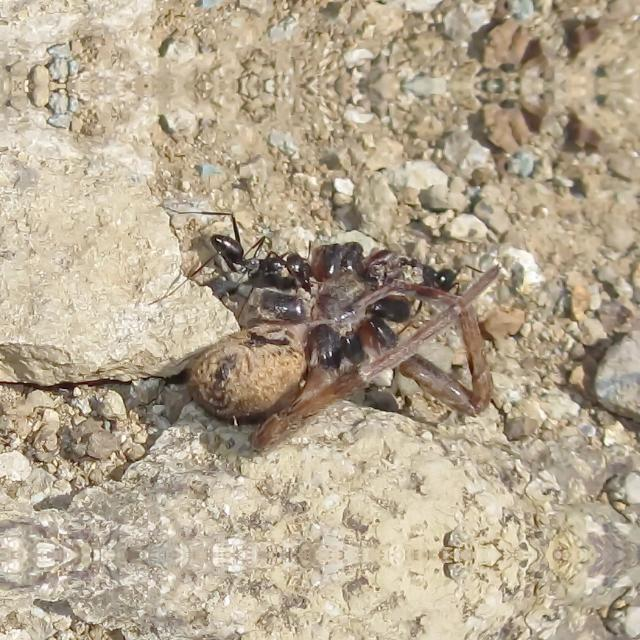Cataglyphis: (194, 222, 363, 290), (350, 237, 478, 301)
